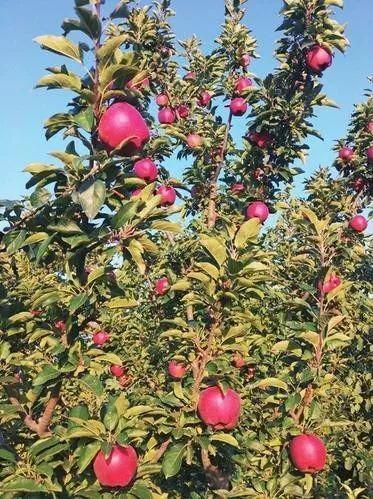apple: (94, 100, 149, 154), (93, 443, 138, 490), (196, 386, 240, 430), (289, 433, 328, 472), (305, 46, 331, 72), (244, 201, 268, 222), (349, 216, 368, 236), (229, 98, 247, 116)
